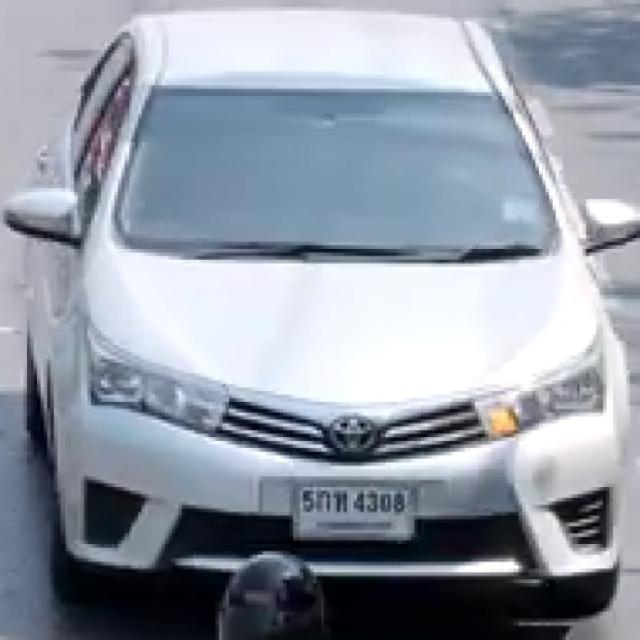plate: (291, 477, 417, 543)
